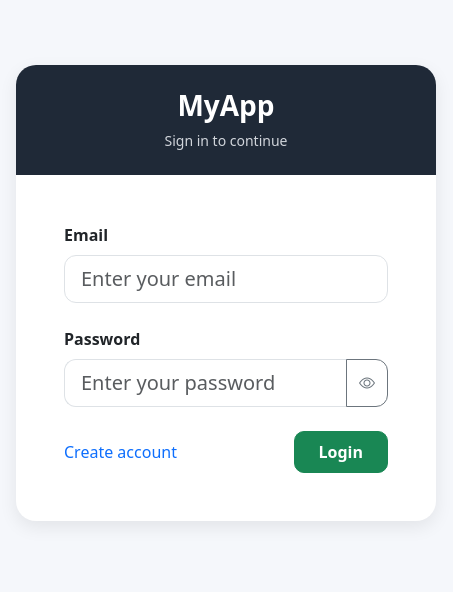
Test case: Login › ログイン失敗(401)
The width and height of the screenshot is (453, 592).
Step 1. Type "test@example.com" into the field with placeholder "Enter your email" → (226, 279), box 64,255 -> 388,303
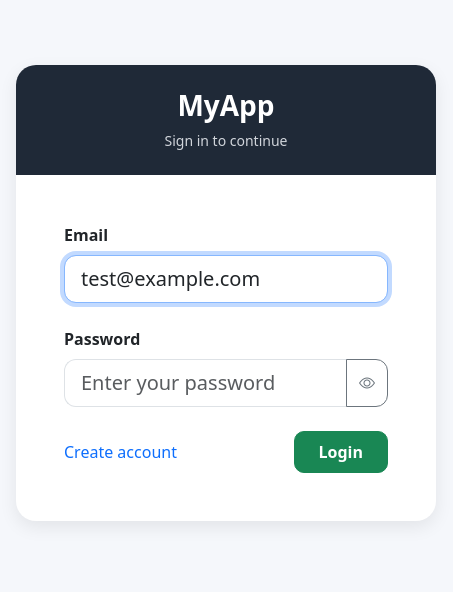
Step 2. Type "wrongpass" into the password field with placeholder "Enter your password" → (206, 383), box 64,359 -> 347,407
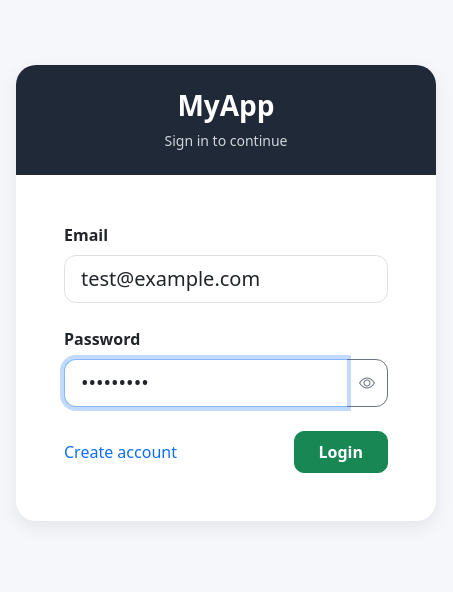
Step 3. Click the button "Login" → (341, 452), box 294,431 -> 388,473
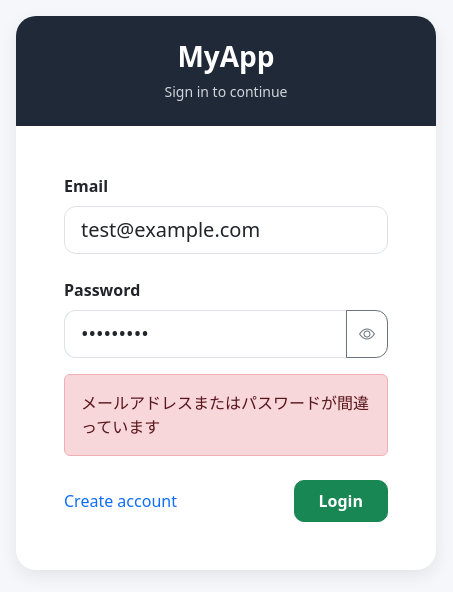
Now the text "メールアドレスまたはパスワードが間違っています" is shown, box 64,374 -> 388,456
